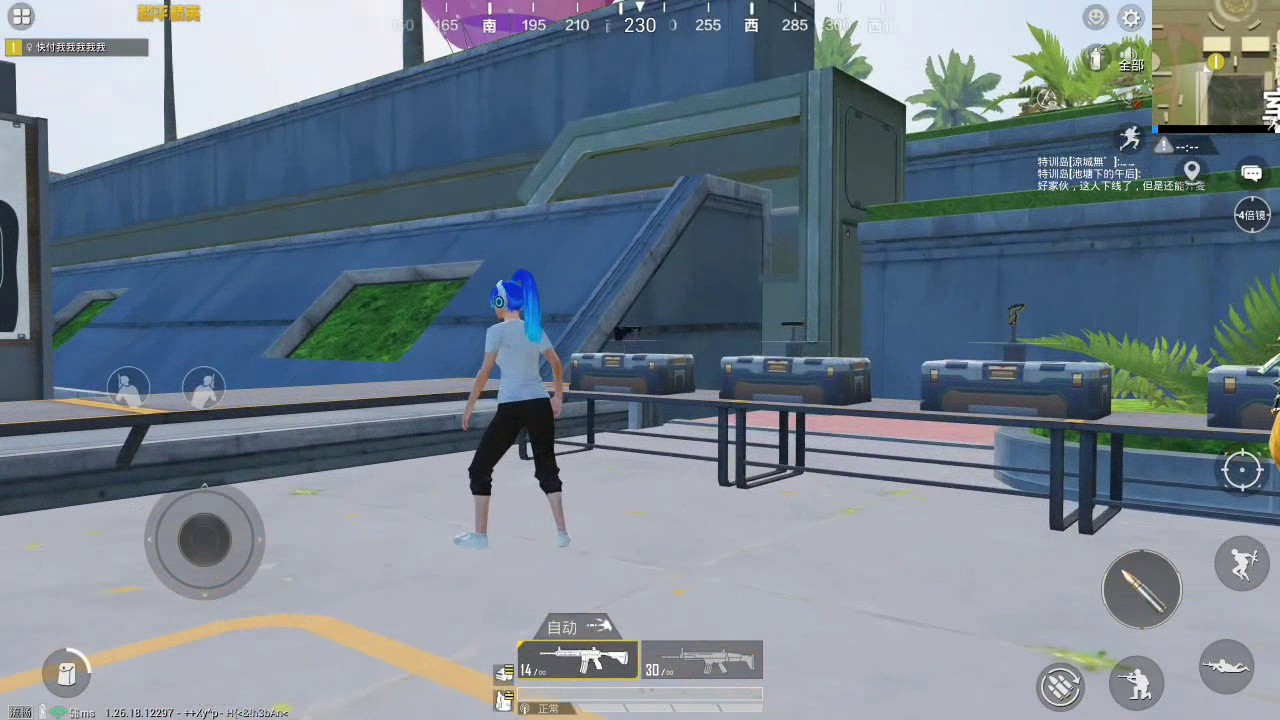enemy: (458, 277, 575, 553)
